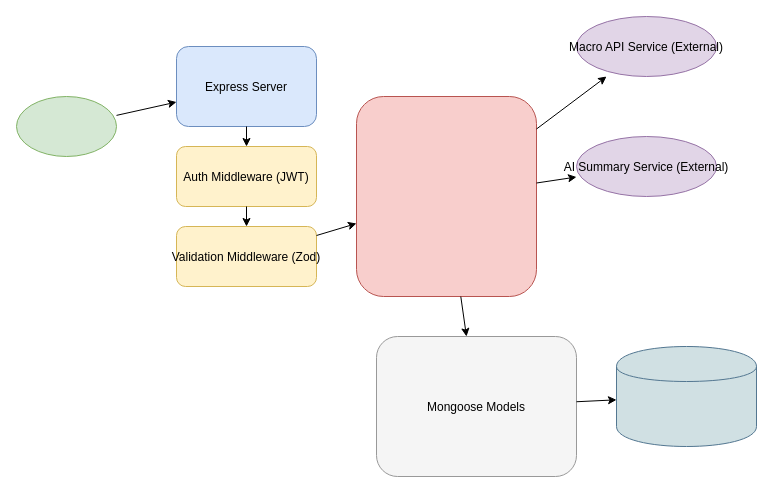
The diagram is 773 pixels wide and 493 high, and some of its shapes have lost their labels. Here are the shapes that lost their labels. From the top down, the centre of each, then its label:
At point (66, 126): "Frontend App".
At point (446, 196): "Routes / Controllers".
At point (686, 396): "MongoDB Atlas".
